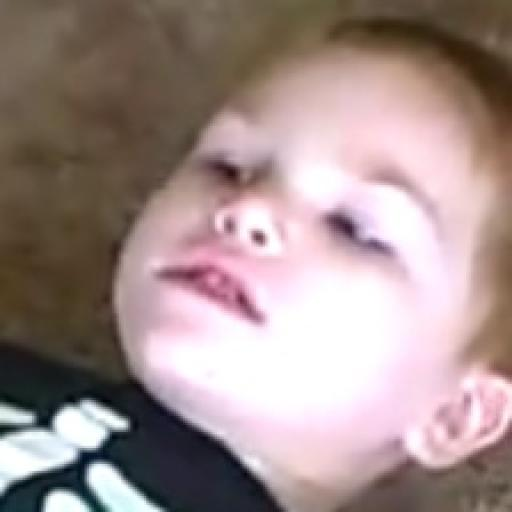Autism: (45, 2, 512, 509)
